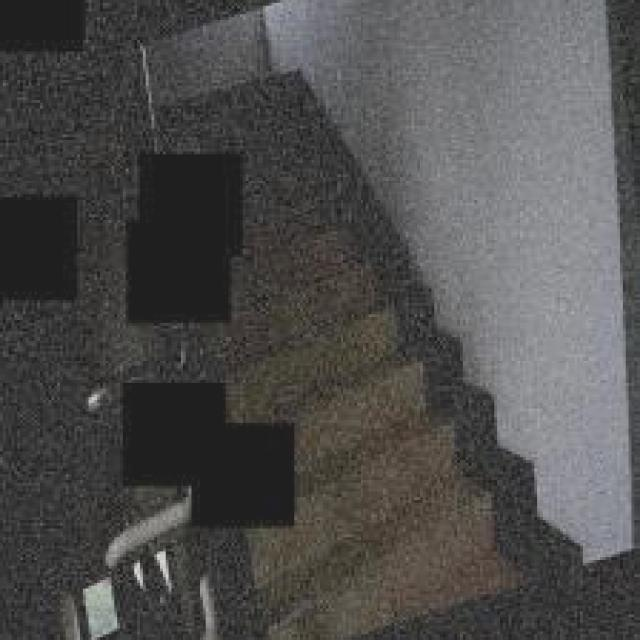upstair: (241, 276, 458, 416)
